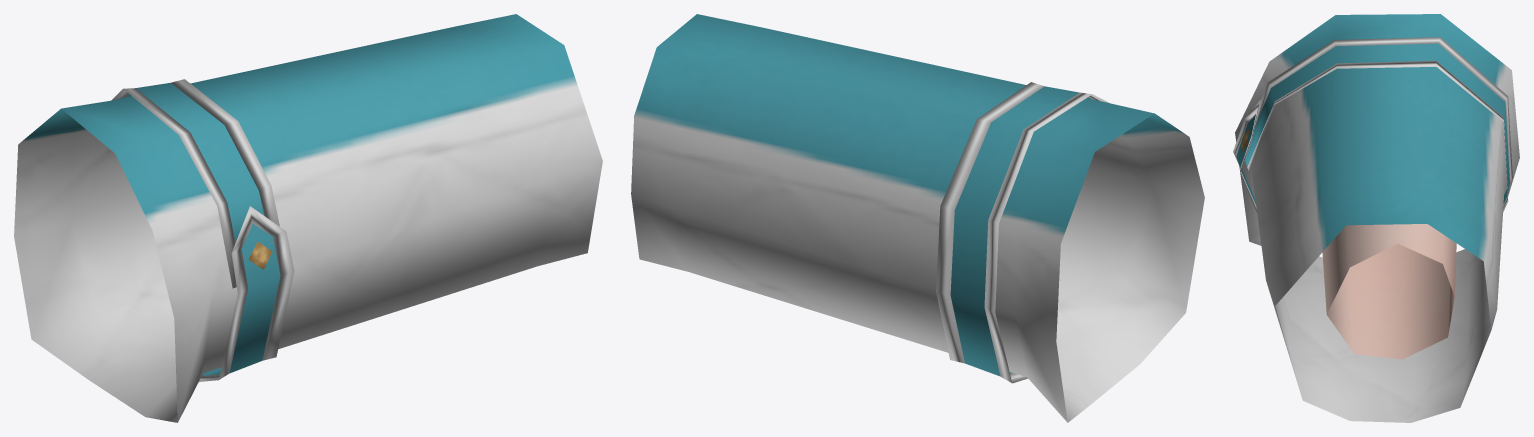
File: KOSHIRO_ABrazo_1.obj
The picture shows the model from 3 angles, left to right: view 1: azimuth 30°, elevation 25°; view 2: azimuth 150°, elevation 25°; view 3: azimuth 270°, elevation 25°; orthographic projection. The views are drawn at different scales.
Visible parts, largest first — view 1: AnteBrazo_1_face_Plane.006; view 2: AnteBrazo_1_face_Plane.006; view 3: AnteBrazo_1_face_Plane.006.
Boxes of the visible parts, bbox=[...] form: AnteBrazo_1_face_Plane.006: bbox=[14, 14, 602, 422]; AnteBrazo_1_face_Plane.006: bbox=[631, 14, 1204, 422]; AnteBrazo_1_face_Plane.006: bbox=[1233, 14, 1519, 422].
Bounding box in the file's own units: 0.1786 × 0.1017 × 0.1058.
